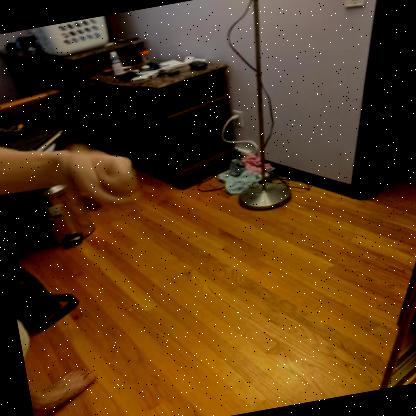J: (41, 149, 141, 205)
